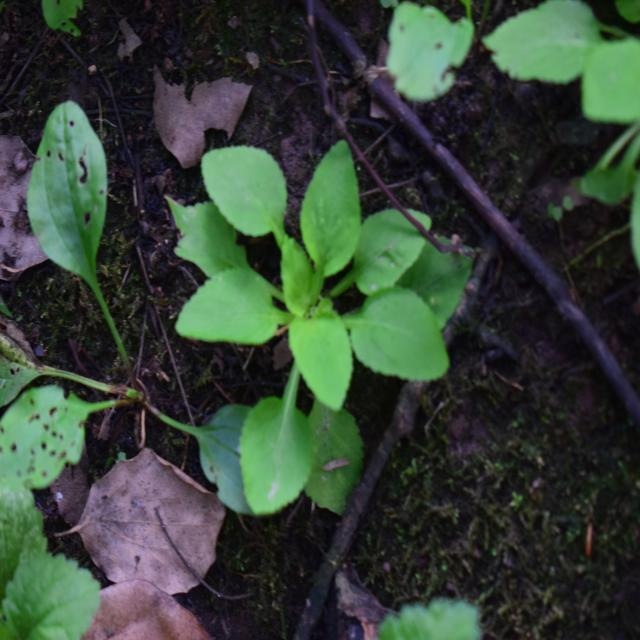Viola: (186, 163, 457, 488)
